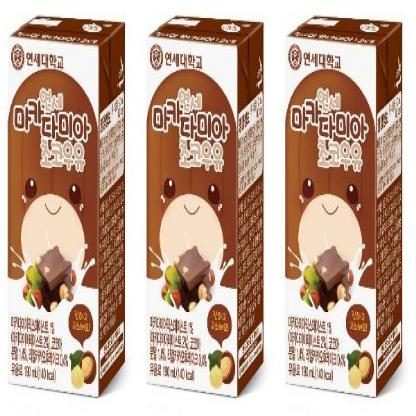tetra: (137, 0, 279, 408), (274, 0, 412, 414), (0, 5, 132, 405)
